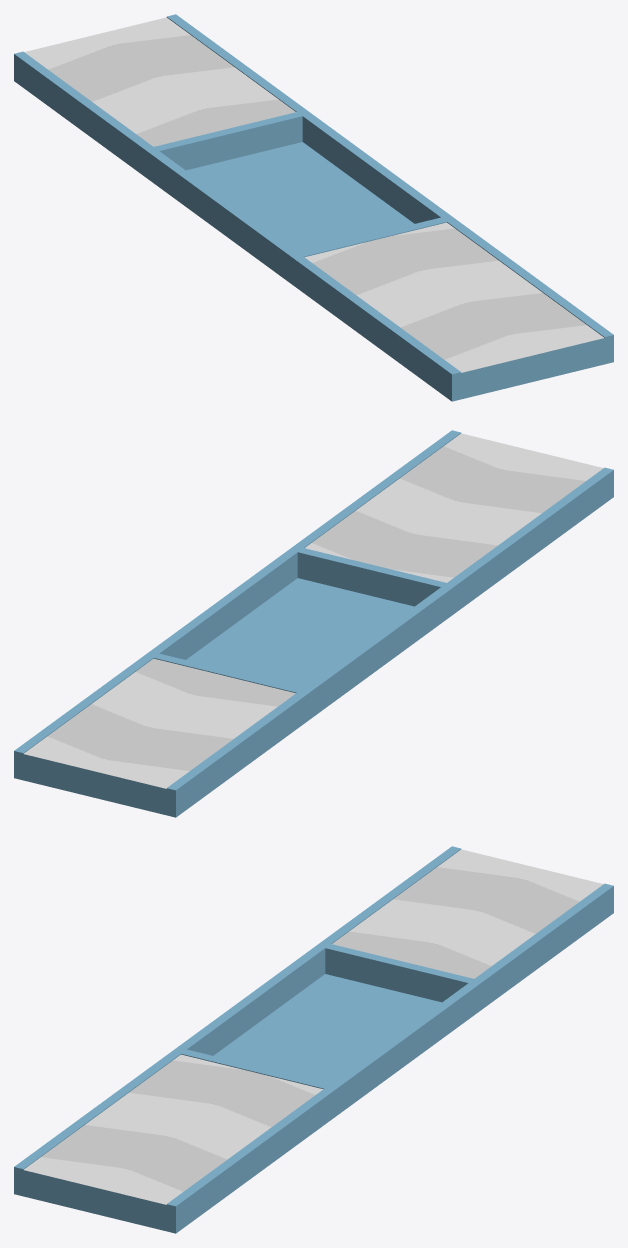
The model's file is platform_POOL_full.fbx.
3 renders of one model, top to bottom at view 1: azimuth 30°, elevation 25°; view 2: azimuth 150°, elevation 25°; view 3: azimuth 330°, elevation 25°, orthographic.
Parts seen in each view (by area): view 1: platformPool.002; view 2: platformPool.002; view 3: platformPool.002.
Boxes of the visible parts, x1,y1,x2,y2 form: platformPool.002: [14, 14, 613, 401]; platformPool.002: [14, 430, 613, 817]; platformPool.002: [14, 846, 613, 1233].
Size of the model in its own units: 6.41 by 1.03 by 30.
